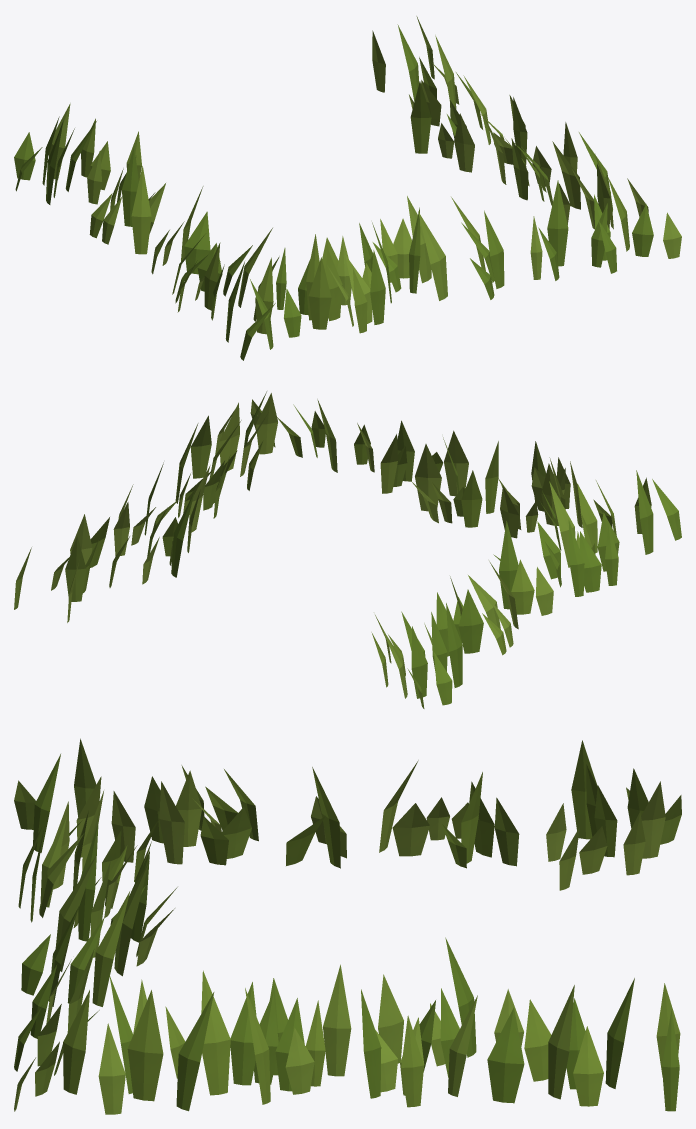
File: tile_grass_end_01.glb
3 views of the same model, one above another, from view 1: azimuth 30°, elevation 25°; view 2: azimuth 150°, elevation 25°; view 3: azimuth 270°, elevation 25° (orthographic). The views are drawn at different scales.
Visible parts, largest first — view 1: tile_grass_end_01; view 2: tile_grass_end_01; view 3: tile_grass_end_01.
Boxes of the visible parts, x1=… form: tile_grass_end_01: x1=14, y1=16, x2=681, y2=360; tile_grass_end_01: x1=14, y1=391, x2=681, y2=708; tile_grass_end_01: x1=14, y1=738, x2=681, y2=1114.
Bounding box in the file's own units: 1 × 0.1806 × 0.9867.
Materials: 1 (1 with a texture image).
